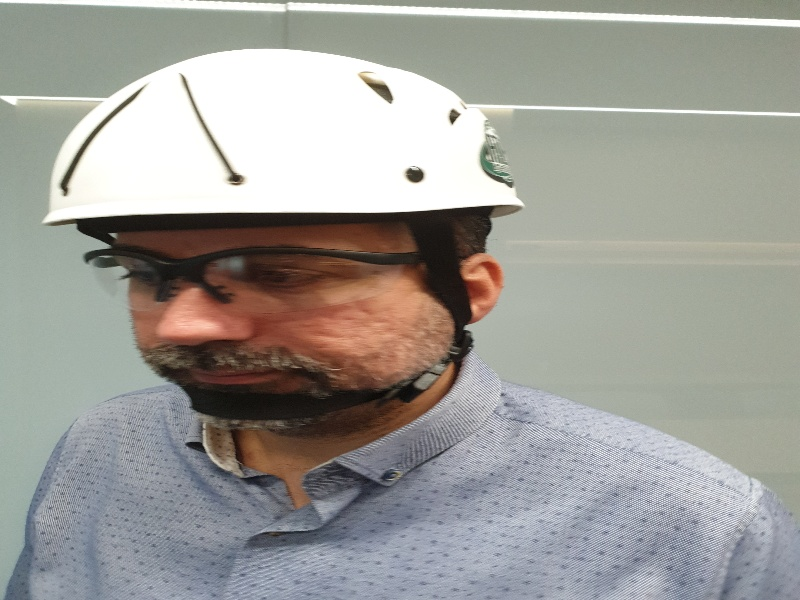Baret: (48, 46, 524, 211)
Gozluk: (78, 247, 436, 312)
